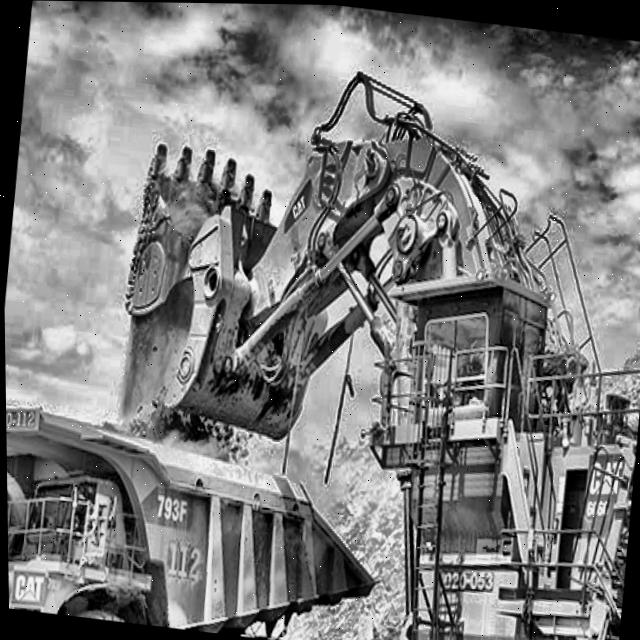dump_truck: (5, 407, 381, 640)
